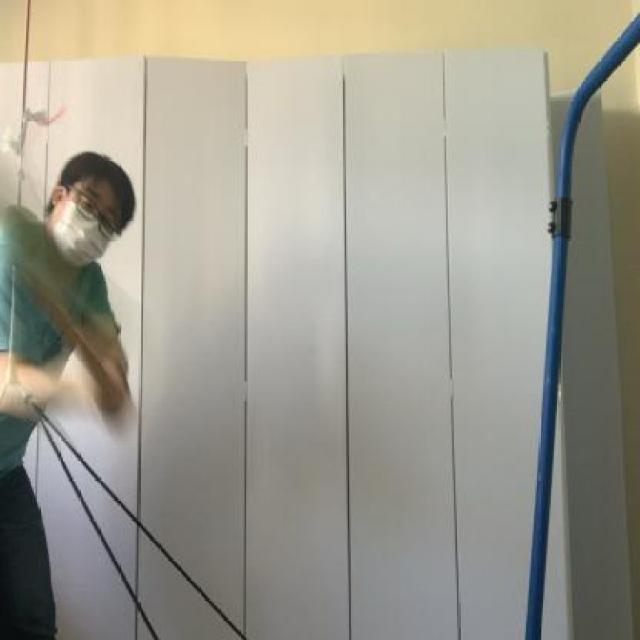baseball: (0, 189, 108, 336)
